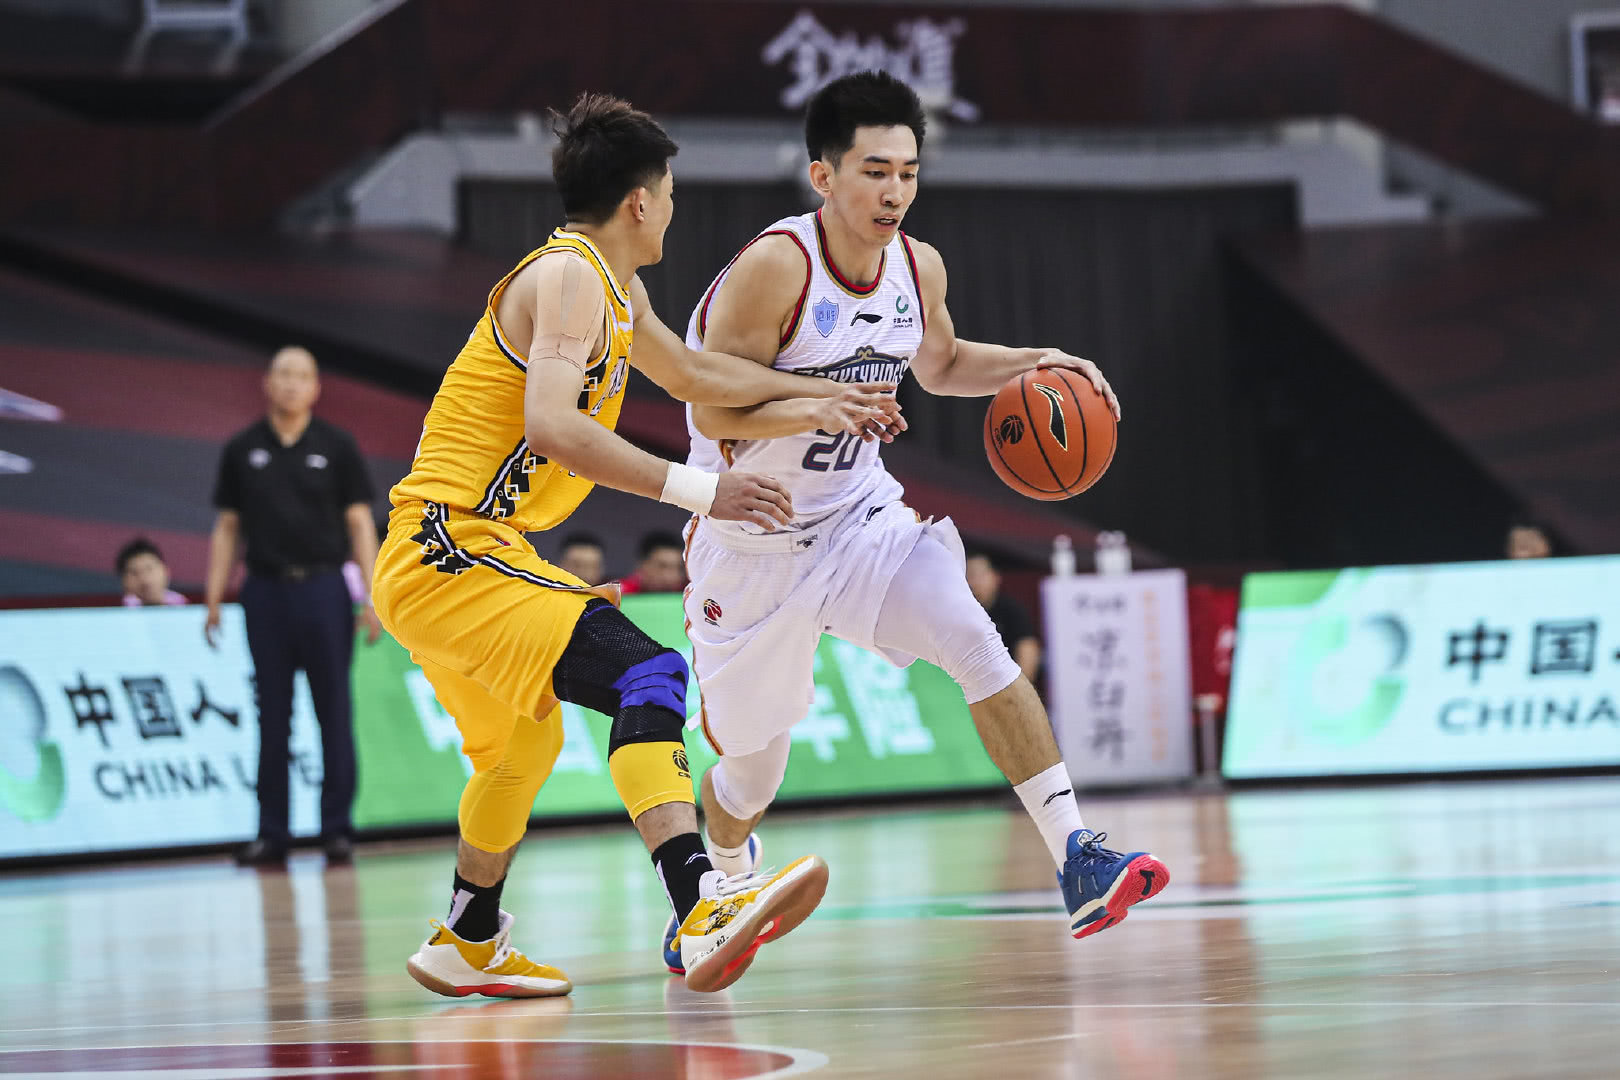ball: (979, 366, 1120, 501)
